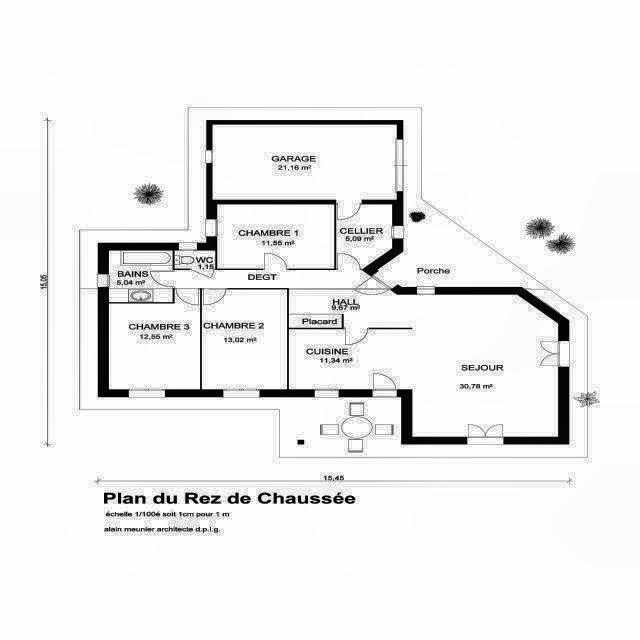room: (154, 241, 579, 459), (212, 125, 397, 200), (109, 289, 200, 389), (202, 289, 287, 389), (217, 204, 334, 269), (336, 204, 392, 270), (109, 250, 173, 302), (175, 250, 215, 269)
